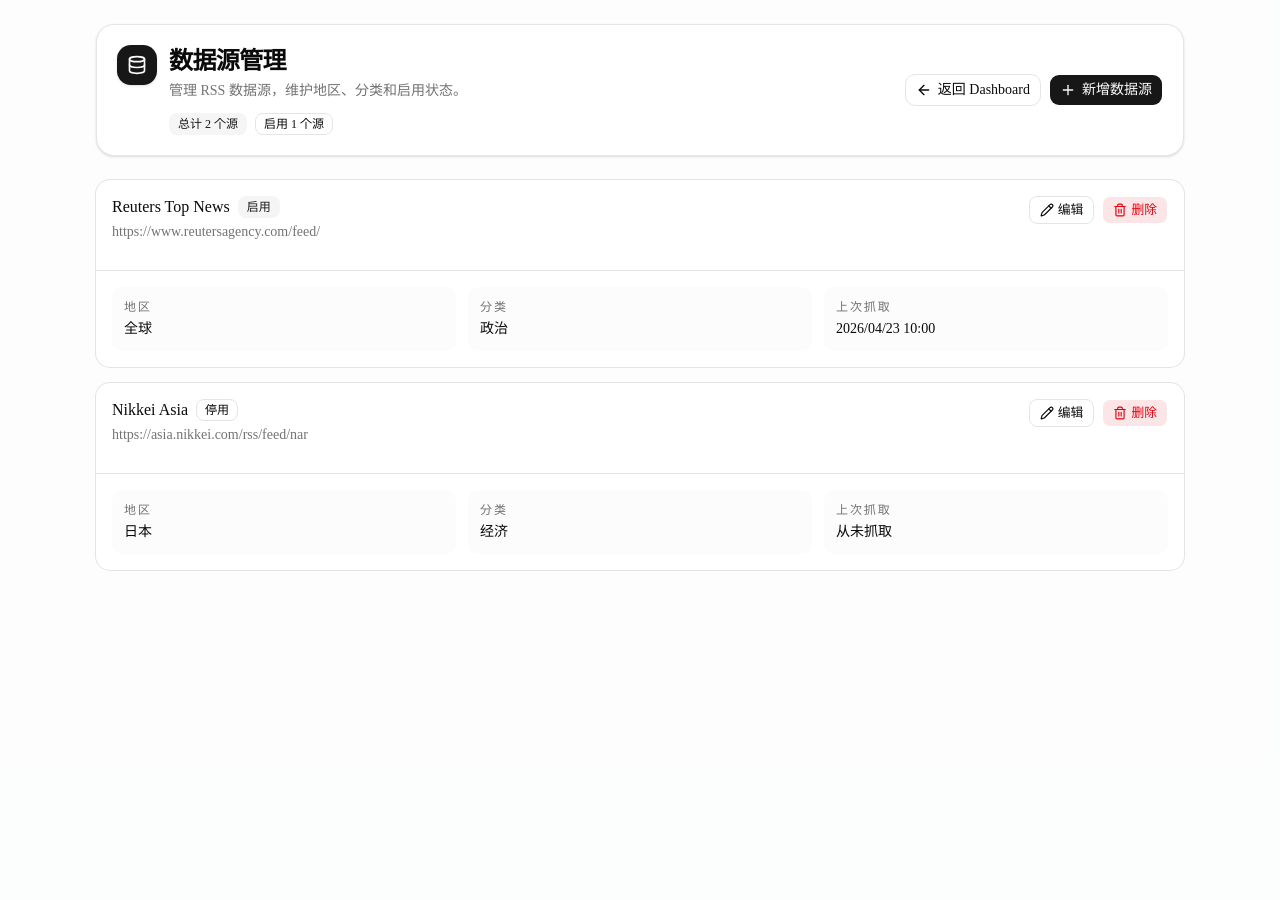
Test: SourcesPage › URL 格式非法时显示表单验证错误
Expected: the text "Reuters Top News" is shown, [112, 196, 230, 218]
Click the button "新增数据源".
click(1106, 90)  # box [1049, 74, 1163, 106]
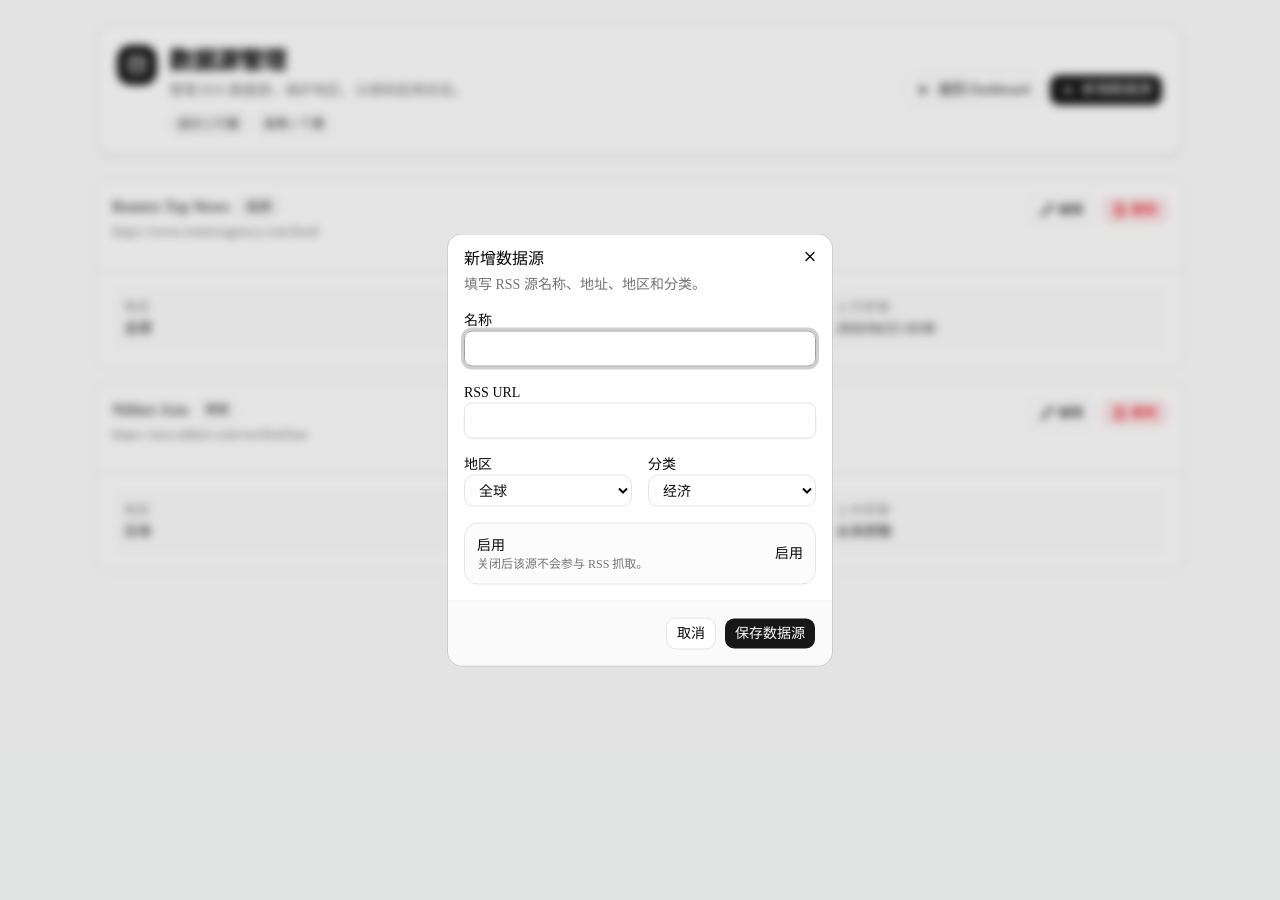
Type "Invalid Feed" into the field labelled "名称".
click(640, 348); type("Invalid Feed")  # box [464, 330, 816, 366]
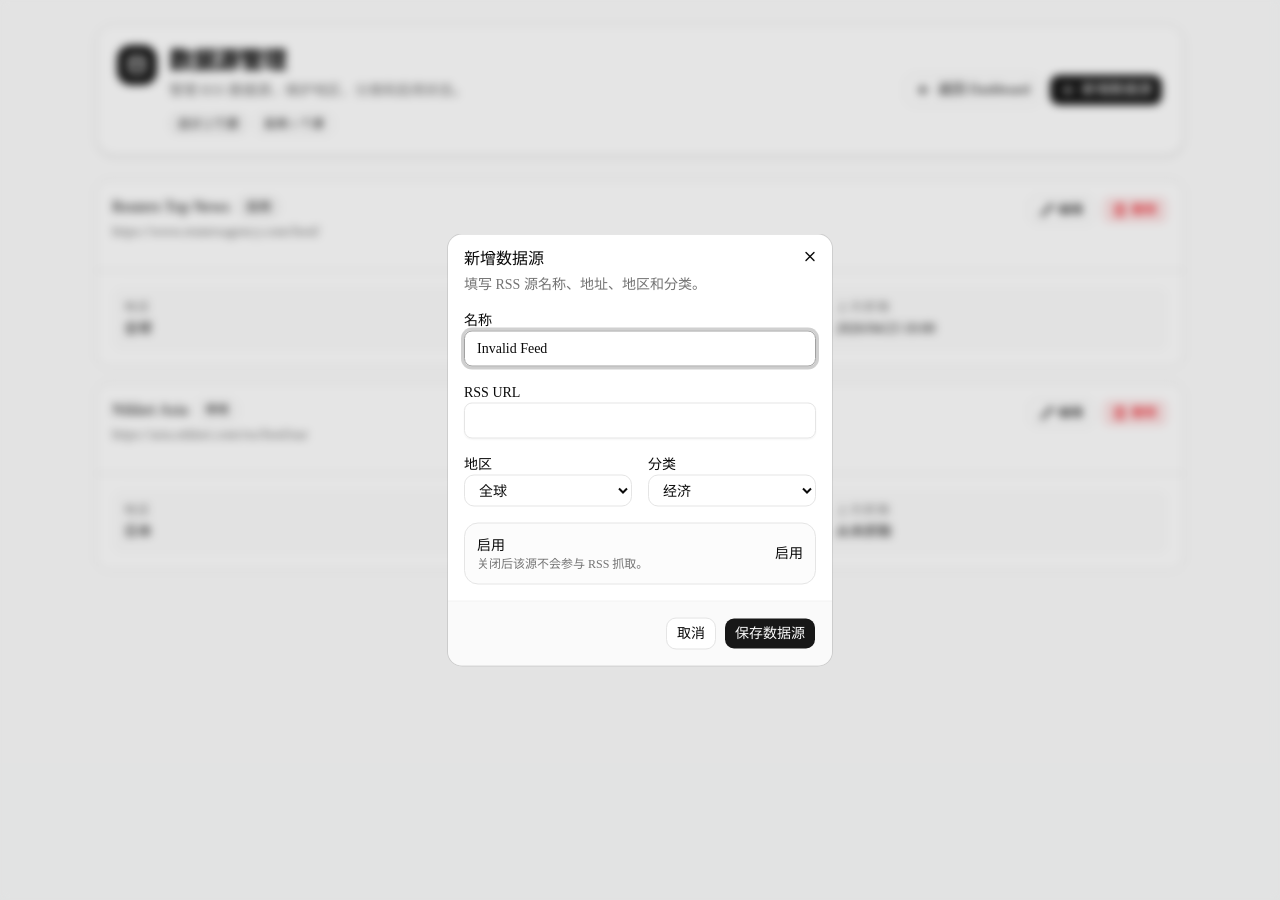
Type "not-a-url" into the field labelled "RSS URL".
click(640, 420); type("not-a-url")  # box [464, 402, 816, 438]
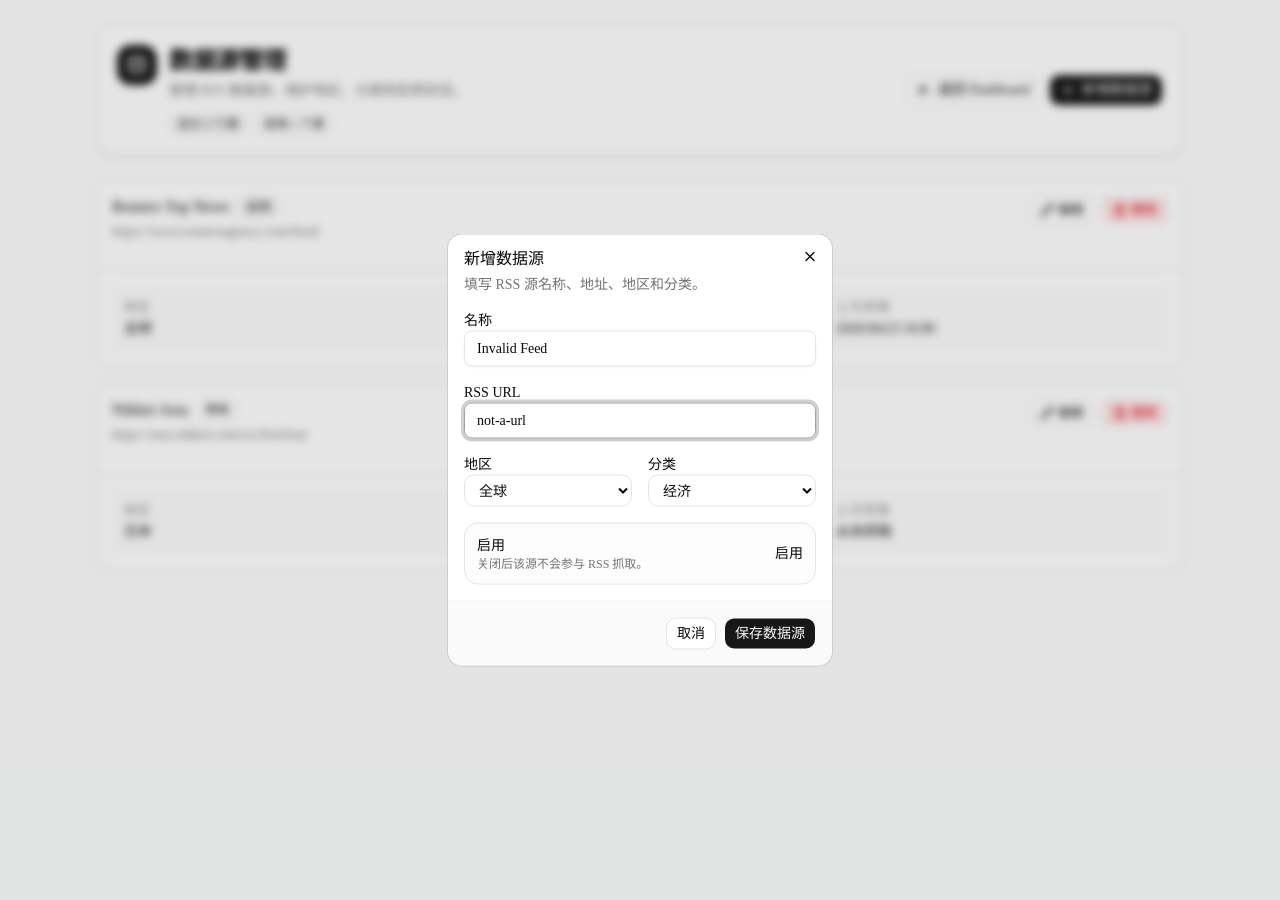
Click the button "保存数据源".
click(770, 634)  # box [724, 618, 816, 650]
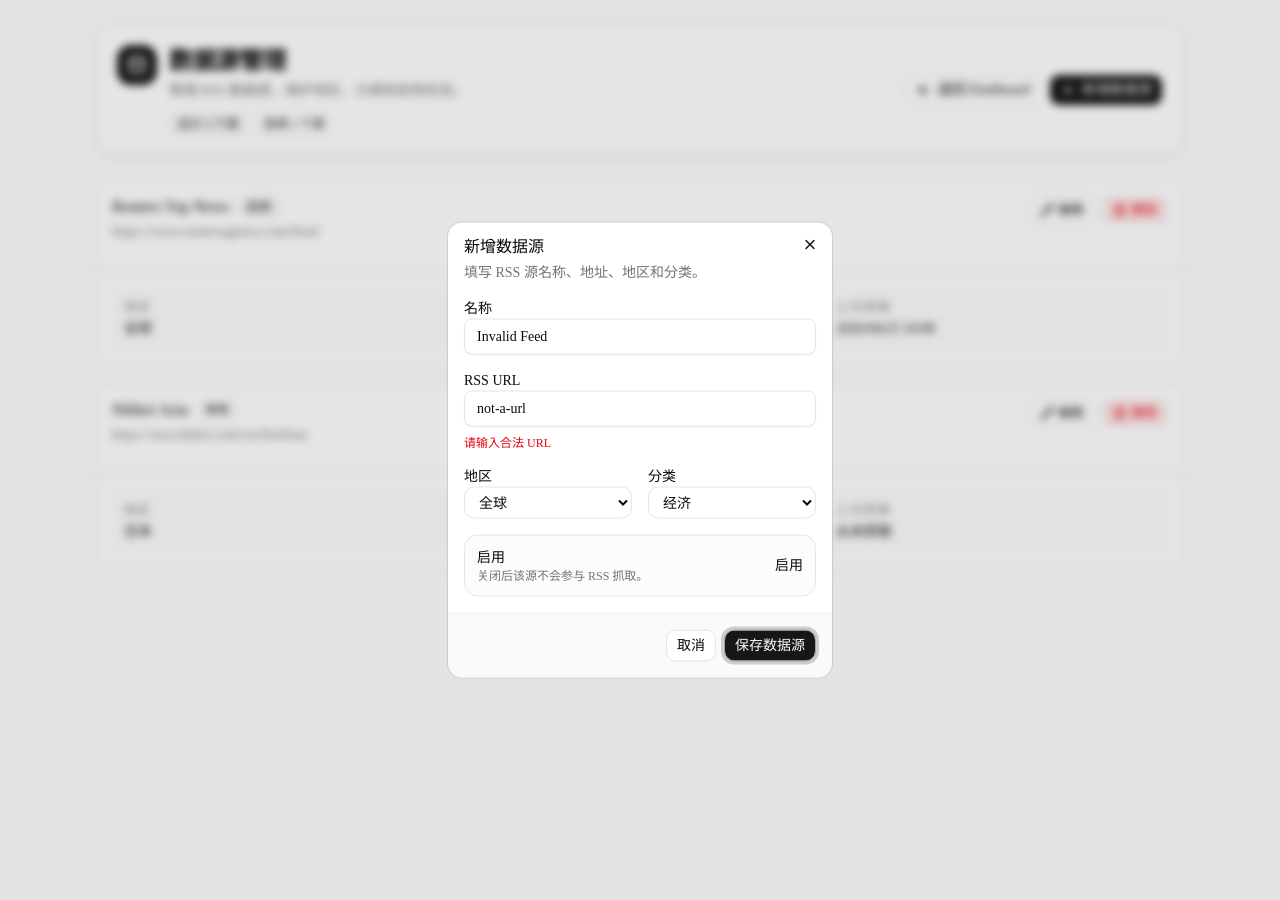
Expected: the text "请输入合法 URL" is shown, [464, 436, 551, 450]
